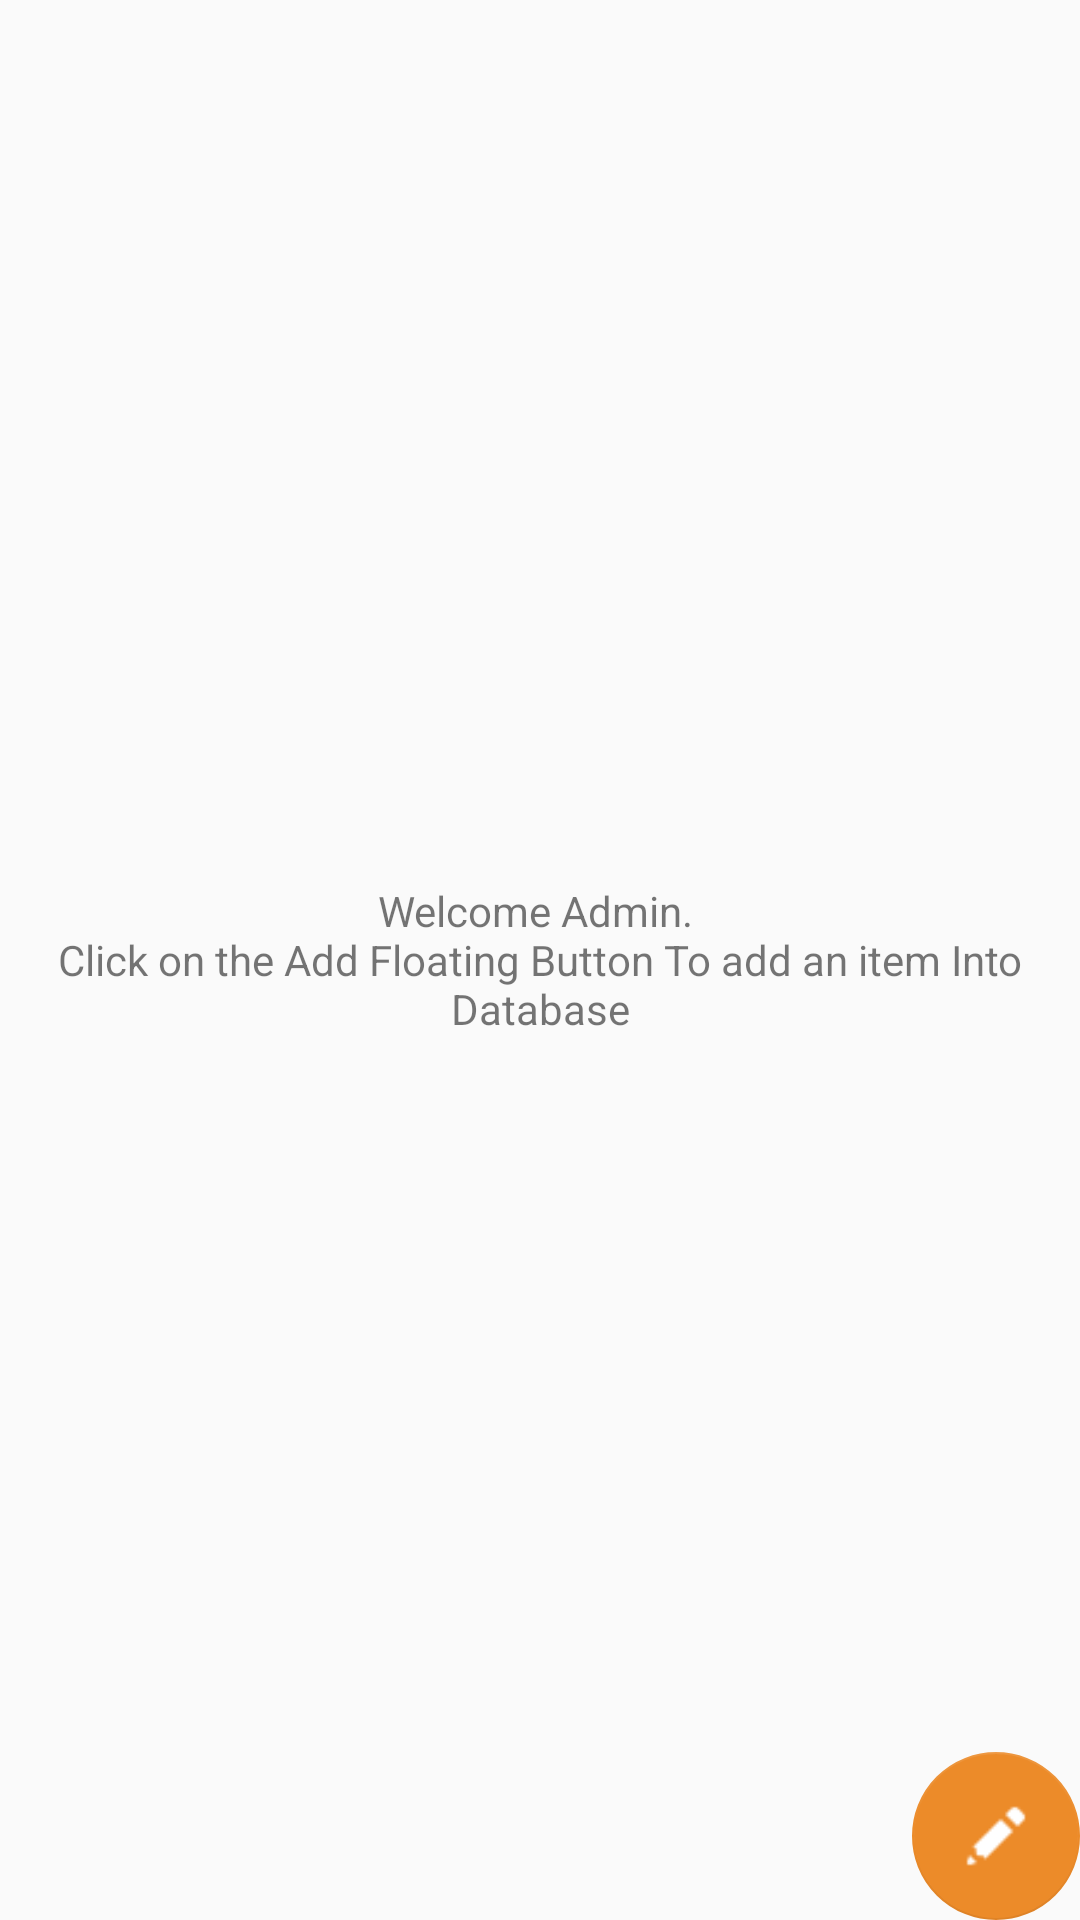

Screen size 1080px x 1920px. Icon name, then its box in pixels as {"left": x1, "top": y1, "right": x2, "bottom": y2}:
write: {"left": 912, "top": 1752, "right": 1080, "bottom": 1920}
